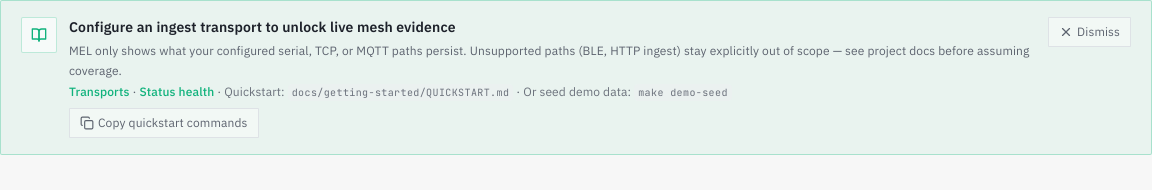
Test case: FirstRunHintBanner › shows clipboard warning when clipboard API is unavailable
Click the button "Copy quickstart commands". click: (164, 123)
box: [69, 108, 259, 138]
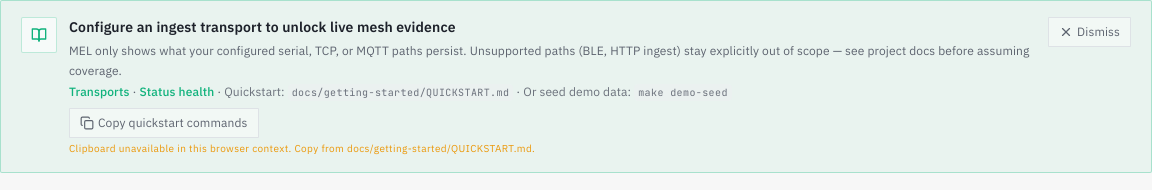
Check: the text "Clipboard unavailable" is shown, box [69, 142, 535, 155]
